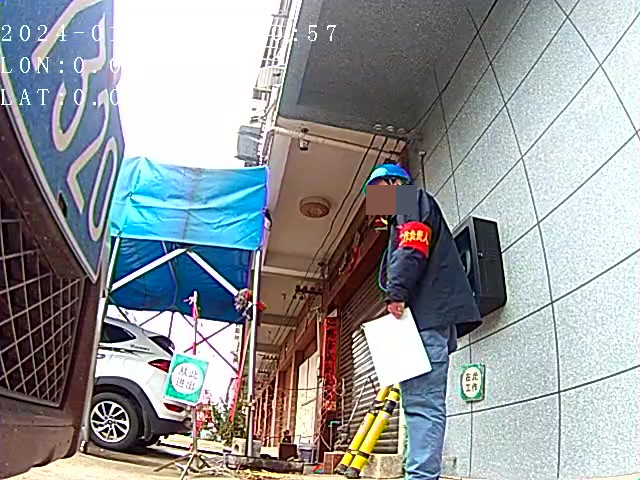badge: (396, 222, 434, 257)
downsuit: (405, 326, 456, 476)
halt: (365, 163, 412, 209)
hand: (387, 301, 405, 317)
inear: (387, 177, 403, 197)
intosign: (162, 352, 209, 407)
person: (333, 161, 480, 480)
upcloth: (382, 185, 473, 323)
worksign: (460, 364, 484, 399)
